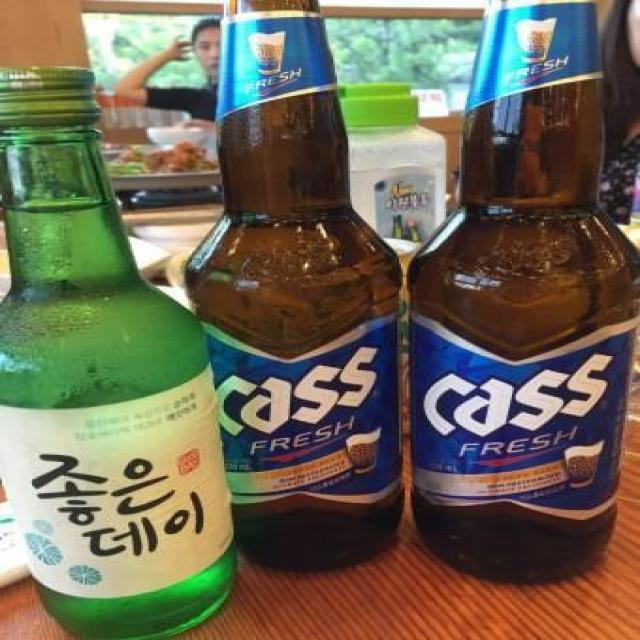beer-bottle: (176, 0, 408, 571), (418, 0, 640, 583)
soju-bottle: (0, 53, 246, 640)
